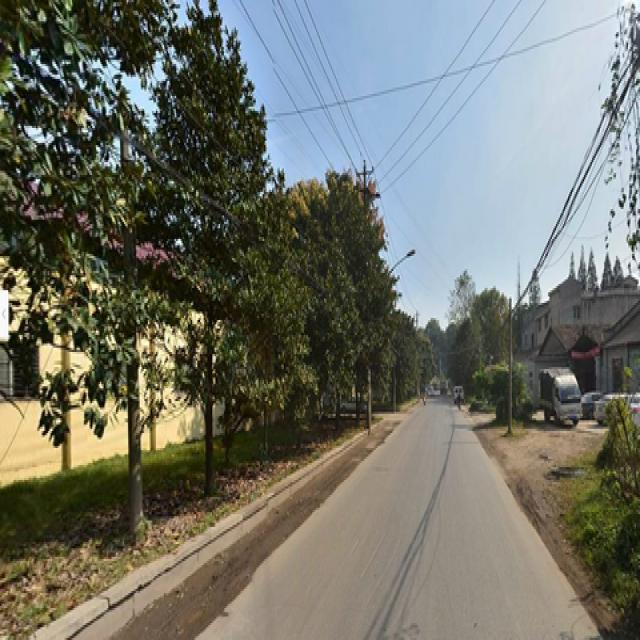magn: (156, 13, 271, 484)
